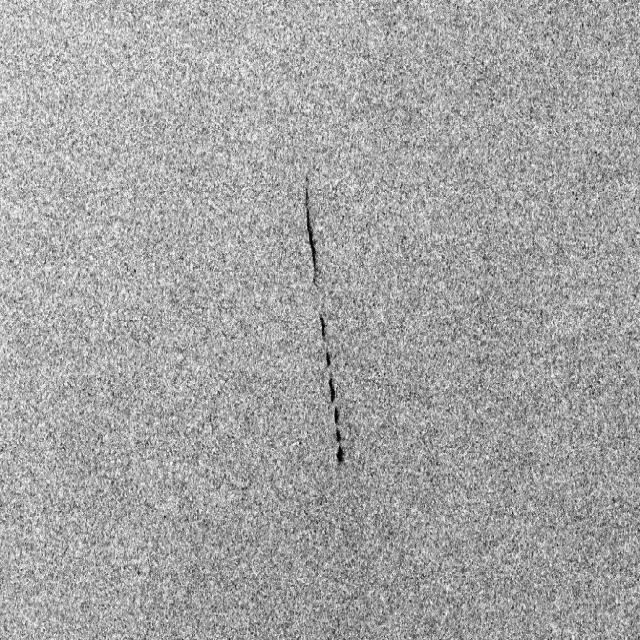oil-spill: (314, 312, 350, 470), (299, 164, 328, 292)
